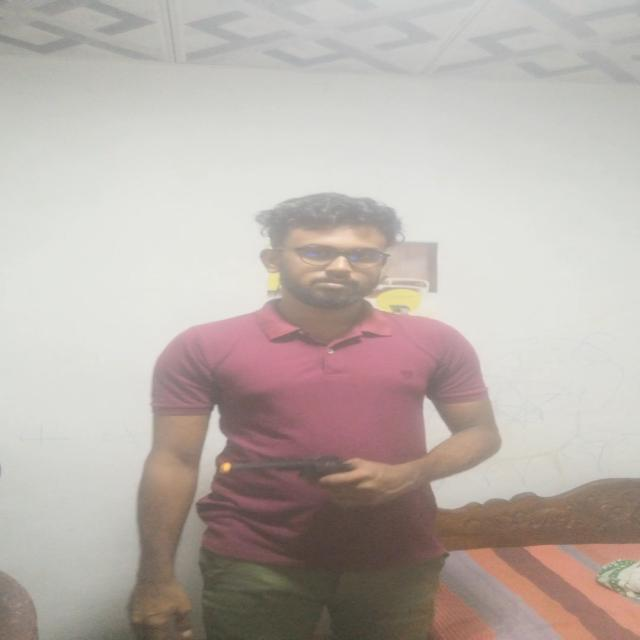Gun_Holder: (213, 451, 418, 505)
Person: (118, 191, 516, 636)
